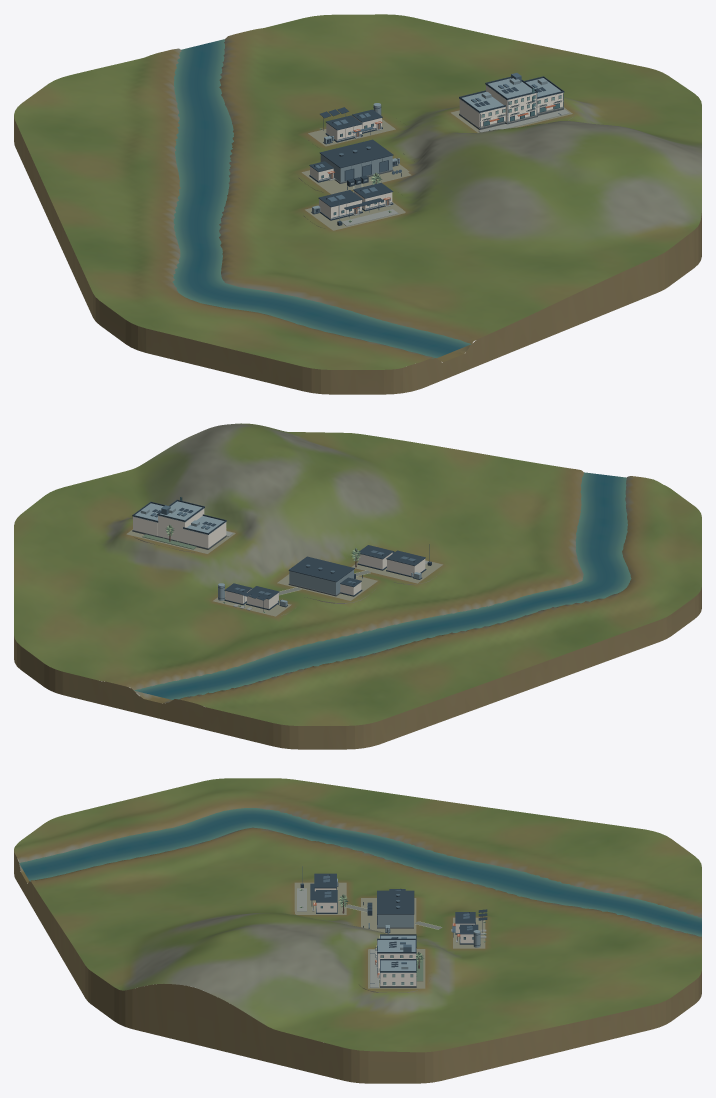
The model's file is world.glb.
3 views of the same model, one above another, from view 1: azimuth 30°, elevation 25°; view 2: azimuth 150°, elevation 25°; view 3: azimuth 270°, elevation 25° (orthographic). The views are drawn at different scales.
Parts seen in each view (by area): view 1: TerrainMesh, LandscapeCutEdge, RiverRibbon, building_residence_t2, building_workshop_t1, building_neighborhood_t1, building_homestead_t1, Foundation_B000003_platform_triangles, Foundation_B000006_platform_triangles; view 2: TerrainMesh, LandscapeCutEdge, RiverRibbon, building_residence_t2, building_workshop_t1, building_neighborhood_t1, building_homestead_t1, Foundation_B000006_platform_triangles; view 3: TerrainMesh, LandscapeCutEdge, RiverRibbon, building_residence_t2, building_workshop_t1, building_neighborhood_t1, building_homestead_t1, Foundation_B000003_platform_triangles, Foundation_B000006_platform_triangles.
Boxes of the visible parts, x1,y1,x2,y2 form: TerrainMesh: (14,14,701,369); LandscapeCutEdge: (14,116,701,394); RiverRibbon: (172,39,471,358); building_residence_t2: (459,73,569,132); building_workshop_t1: (309,139,401,189); building_neighborhood_t1: (311,172,398,226); building_homestead_t1: (320,103,382,144); Foundation_B000003_platform_triangles: (301,163,411,194); Foundation_B000006_platform_triangles: (305,202,405,230); TerrainMesh: (14,423,701,725); LandscapeCutEdge: (14,587,701,749); RiverRibbon: (134,472,631,699); building_residence_t2: (132,497,233,549); building_workshop_t1: (288,556,362,596); building_neighborhood_t1: (351,544,431,579); building_homestead_t1: (218,583,287,612); Foundation_B000006_platform_triangles: (351,560,442,583); TerrainMesh: (14,778,701,1052); LandscapeCutEdge: (14,850,701,1083); RiverRibbon: (19,808,701,936); building_residence_t2: (370,934,423,987); building_workshop_t1: (363,888,414,933); building_neighborhood_t1: (297,866,348,913); building_homestead_t1: (451,909,487,947); Foundation_B000003_platform_triangles: (361,898,416,933); Foundation_B000006_platform_triangles: (294,882,346,914).
Bounding box in the file's own units: 14.37 × 1.64 × 14.75.
